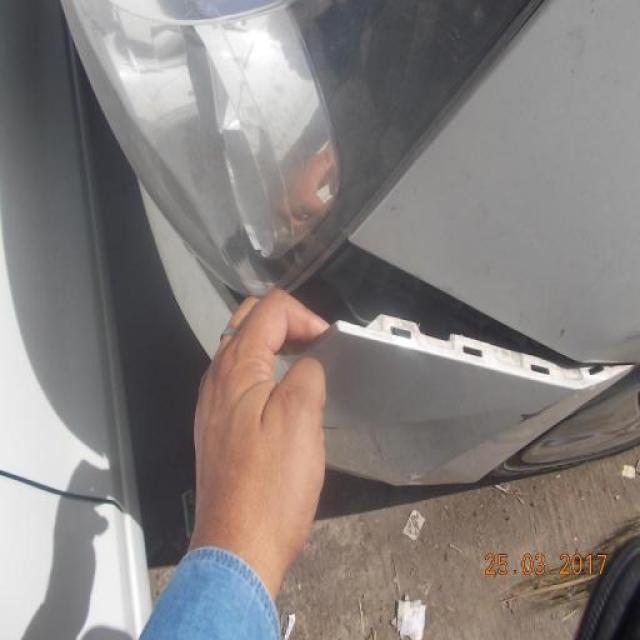tear: (287, 240, 636, 394)
